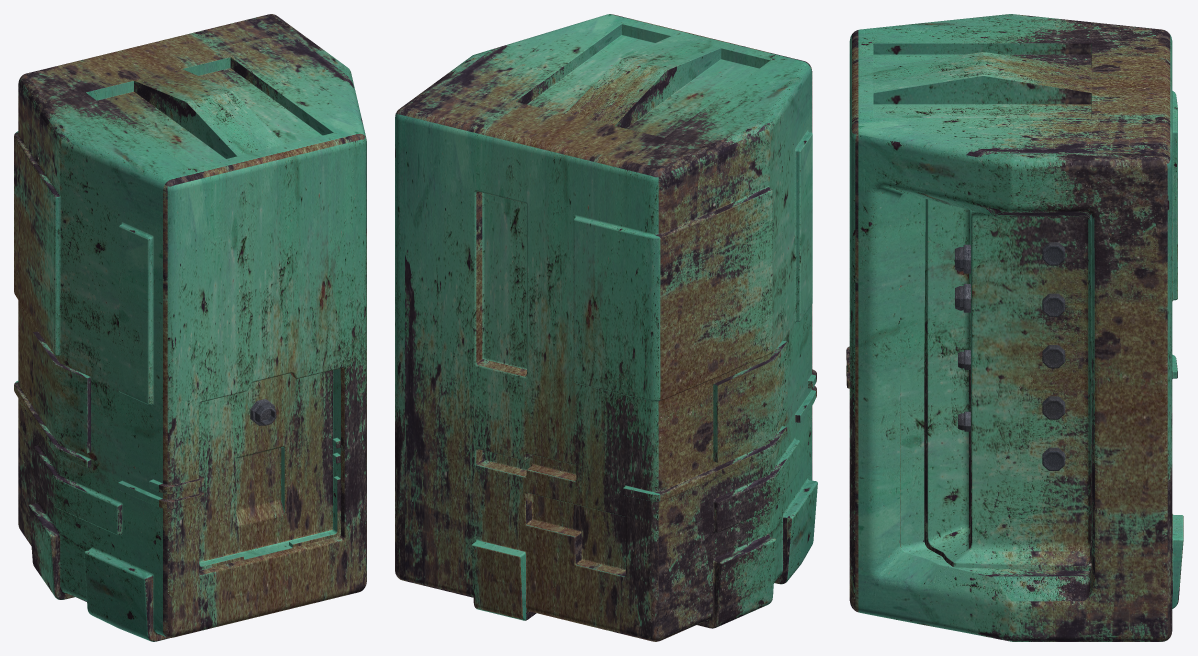
File: BateriaFunca con textura.FBX
The picture shows the model from 3 angles, left to right: view 1: azimuth 30°, elevation 25°; view 2: azimuth 150°, elevation 25°; view 3: azimuth 270°, elevation 25°; orthographic projection. The views are drawn at different scales.
Visible parts, largest first — view 1: pCube1, pCylinder13; view 2: pCube1; view 3: pCube1, pCylinder13.
Part boxes in pixels (<box>): pCube1: <box>14,14,366,641</box>; pCylinder13: <box>250,399,276,425</box>; pCube1: <box>395,14,817,641</box>; pCube1: <box>846,14,1183,641</box>; pCylinder13: <box>955,242,1065,470</box>.
Size of the model in its own units: 3.83 by 5.89 by 3.53.
Materials: 2 (2 with a texture image).
